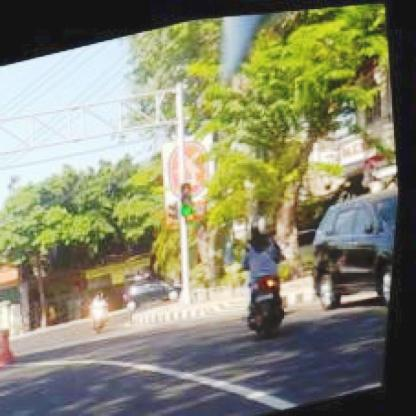Traffic Light -Green-: (184, 179, 202, 213)
